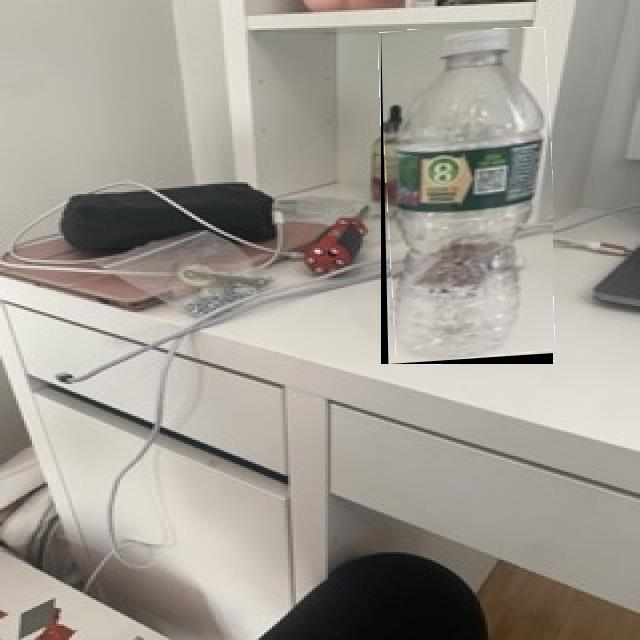water_bottle: (381, 29, 553, 364)
